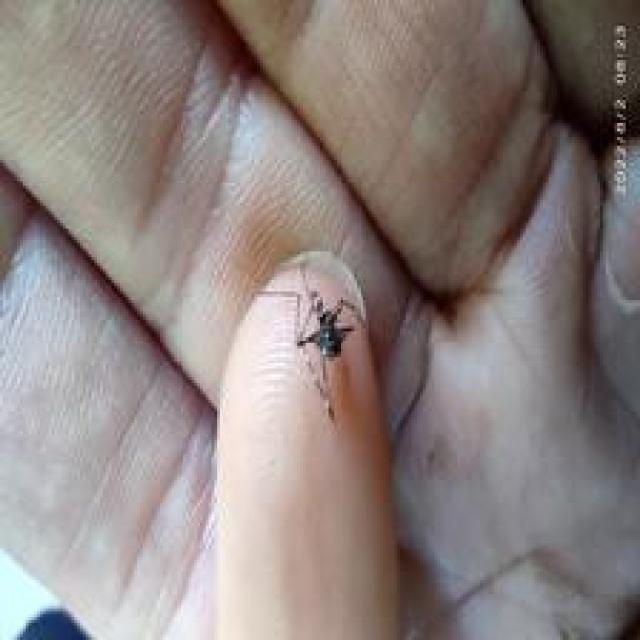Aedes albopictus: (293, 288, 361, 423)
